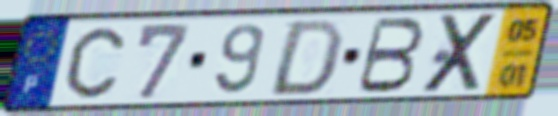7: (134, 22, 193, 102)
9: (212, 21, 267, 96)
B: (352, 15, 428, 96)
C: (63, 24, 128, 101)
D: (264, 17, 348, 98)
X: (417, 10, 503, 97)
